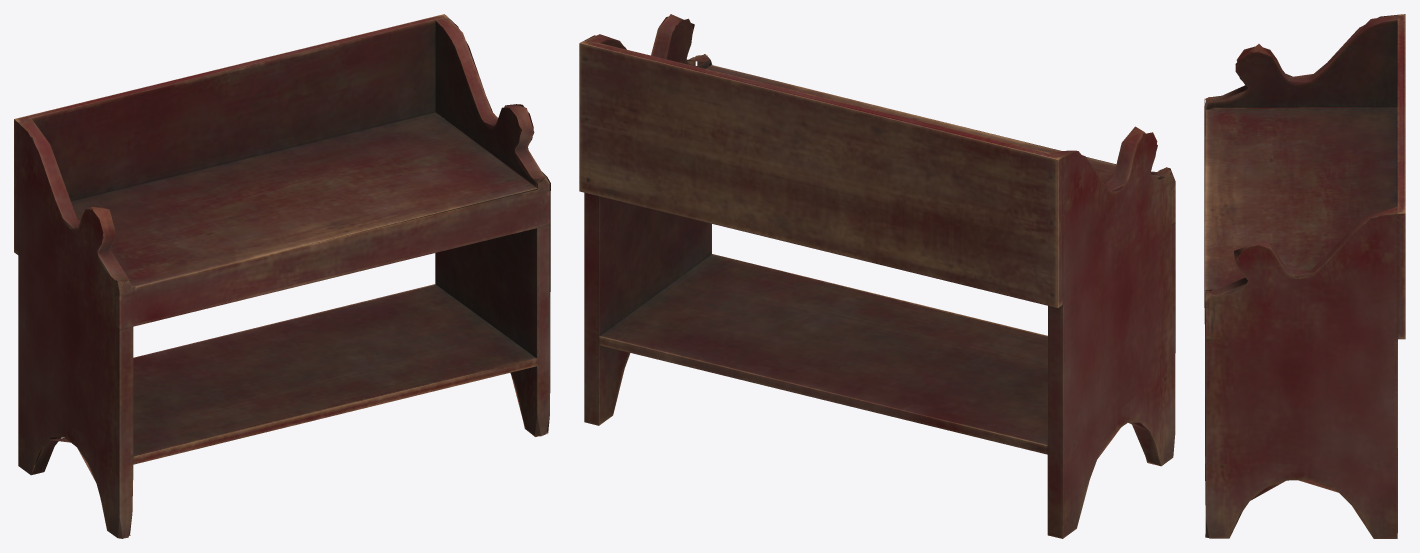
The model's file is distance.fbx.
3 renders of one model, left to right at view 1: azimuth 30°, elevation 25°; view 2: azimuth 150°, elevation 25°; view 3: azimuth 270°, elevation 25°, orthographic. The views are drawn at different scales.
Parts seen in each view (by area): view 1: painted_wooden_bench; view 2: painted_wooden_bench; view 3: painted_wooden_bench.
Boxes of the visible parts, x1,y1,x2,y2 form: painted_wooden_bench: [14, 14, 550, 538]; painted_wooden_bench: [579, 14, 1175, 538]; painted_wooden_bench: [1204, 14, 1405, 538].
Bounding box in the file's own units: 117 × 89.19 × 49.82.
